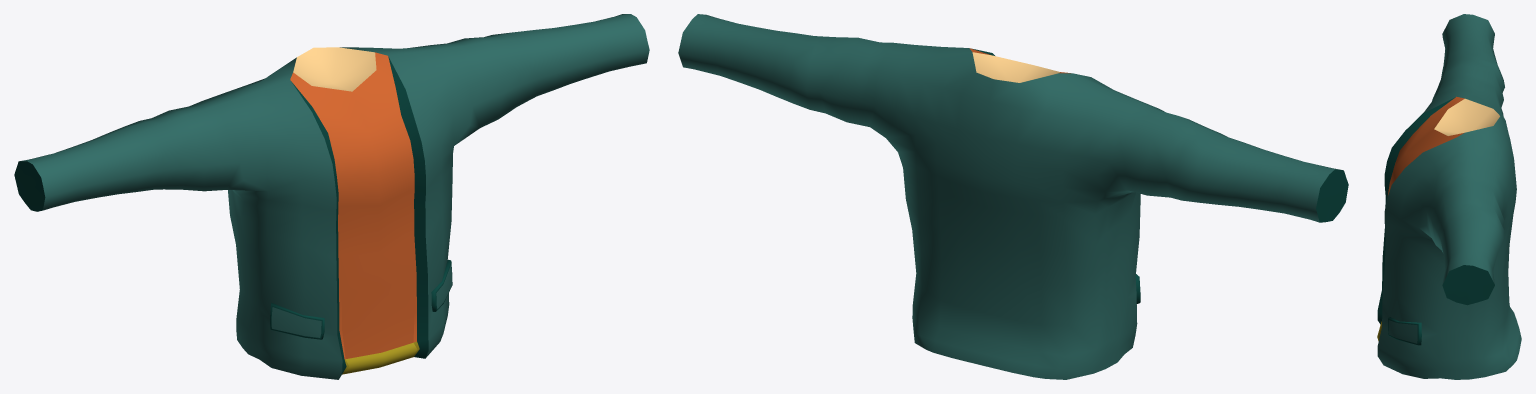
File: Torso_14_04.fbx
3 renders of one model, left to right at view 1: azimuth 30°, elevation 25°; view 2: azimuth 150°, elevation 25°; view 3: azimuth 270°, elevation 25°, orthographic. The views are drawn at different scales.
Parts seen in each view (by area): view 1: Torso_14_04; view 2: Torso_14_04; view 3: Torso_14_04.
Part boxes in pixels (left/top/right/bottom): Torso_14_04: left=14, top=14, right=649, bottom=379; Torso_14_04: left=678, top=14, right=1348, bottom=379; Torso_14_04: left=1377, top=14, right=1521, bottom=379.
Size of the model in its own units: 118 by 50.73 by 28.69.
